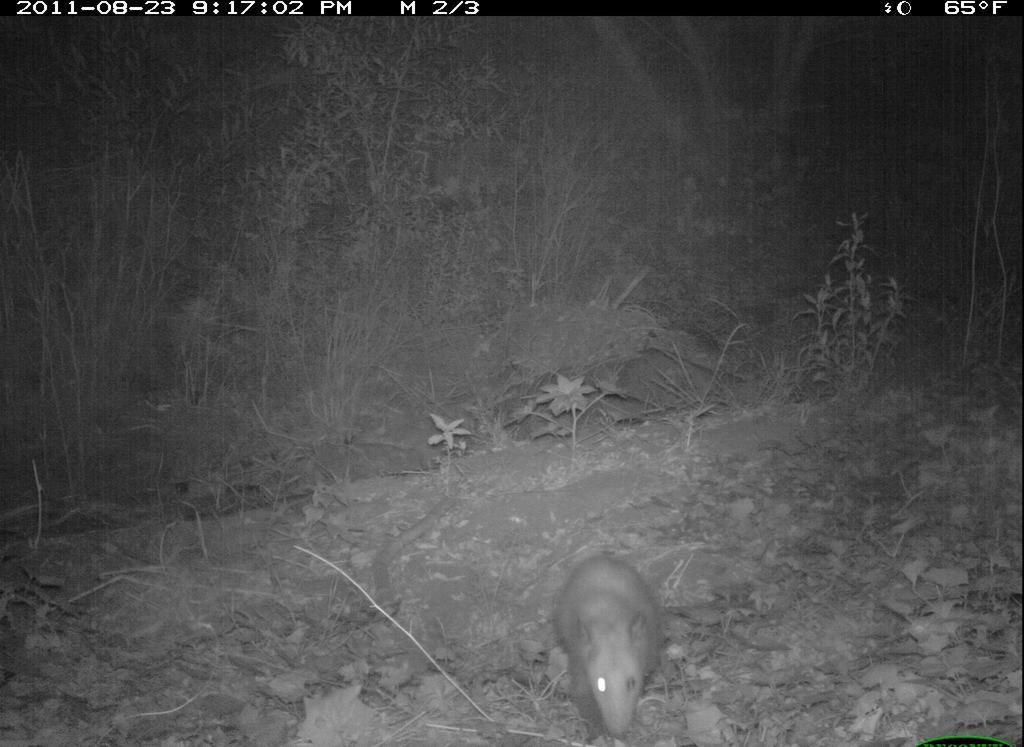opossum: (557, 547, 673, 743)
